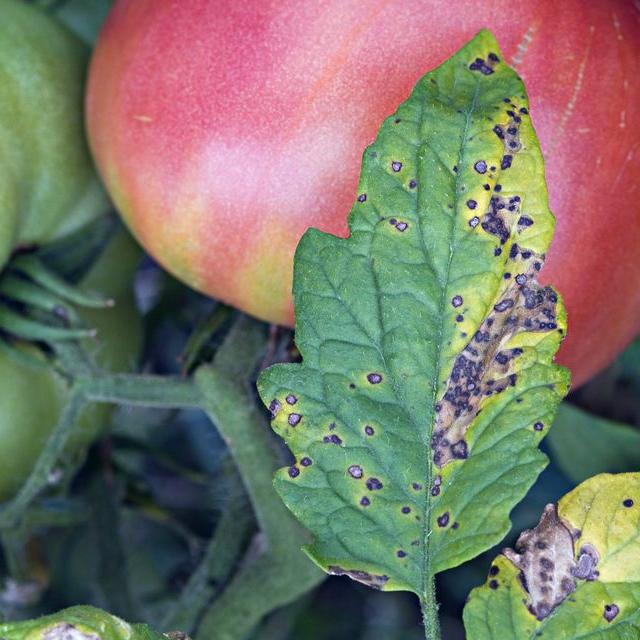Tomato Septoria leaf spot: (284, 37, 580, 599), (464, 470, 640, 636)
